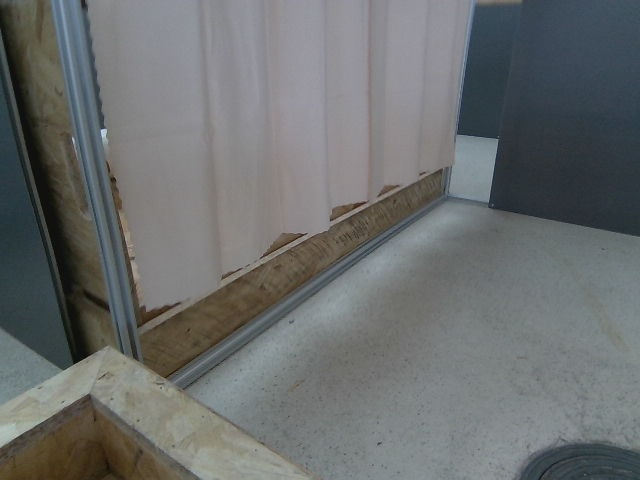curtain: (64, 0, 461, 322)
